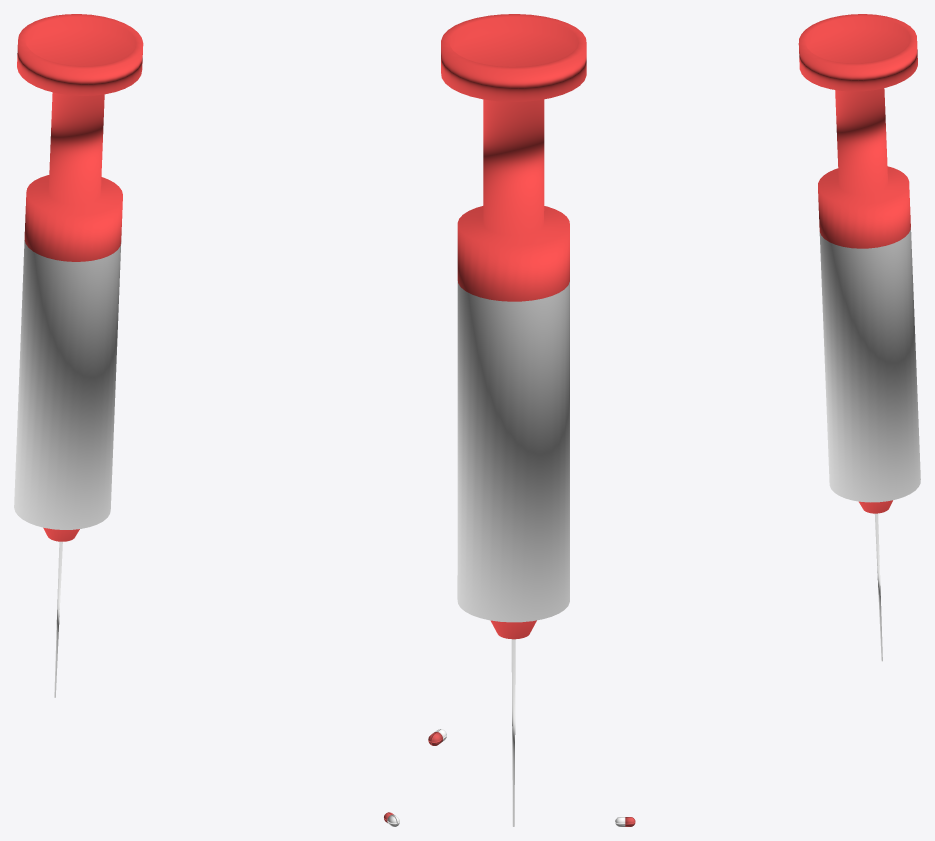
File: suntikan.glb
The picture shows the model from 3 angles, left to right: view 1: azimuth 30°, elevation 25°; view 2: azimuth 150°, elevation 25°; view 3: azimuth 270°, elevation 25°; orthographic projection. The views are drawn at different scales.
Visible parts, largest first — view 1: Cylinder; view 2: Cylinder; view 3: Cylinder.
Boxes of the visible parts, x1,y1,x2,y2 form: Cylinder: (14,14,143,697); Cylinder: (441,14,586,826); Cylinder: (798,14,920,661).
Bounding box in the file's own units: 4.56 × 13.04 × 5.15.
